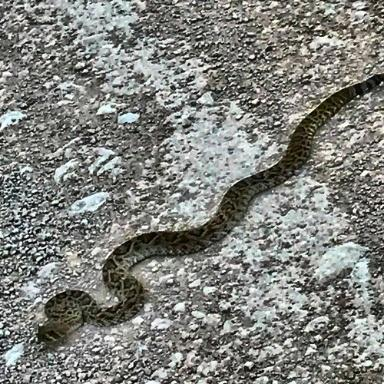snake: (38, 91, 350, 343)
